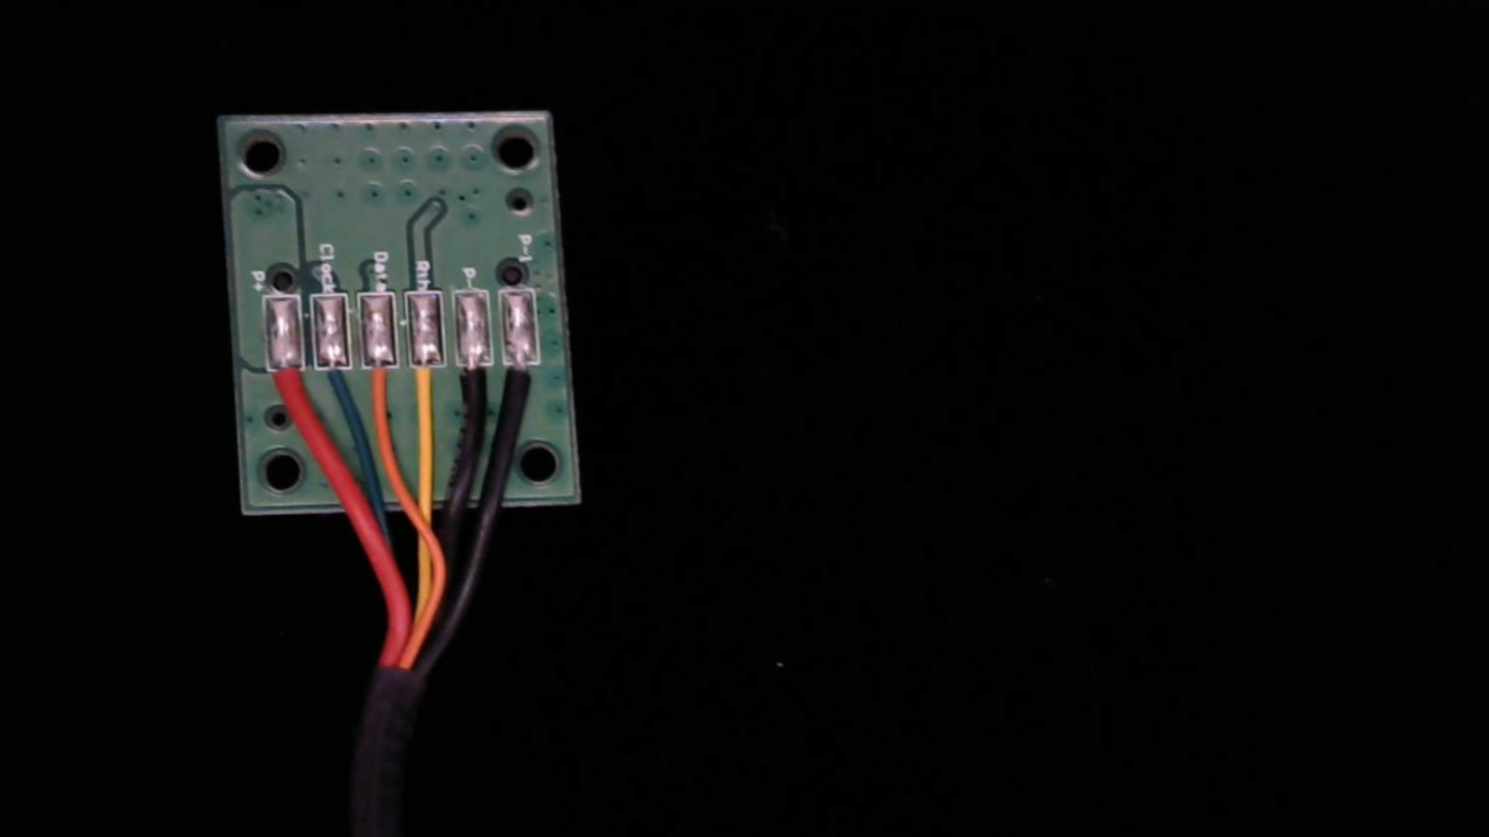Black: (457, 344, 492, 426)
Black1: (502, 344, 541, 412)
Green: (315, 346, 351, 421)
Orange: (361, 348, 399, 420)
Red: (264, 348, 304, 423)
Yellow: (407, 344, 447, 427)
